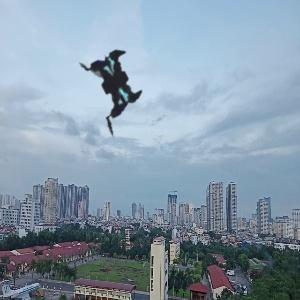drone: (32, 7, 191, 166)
